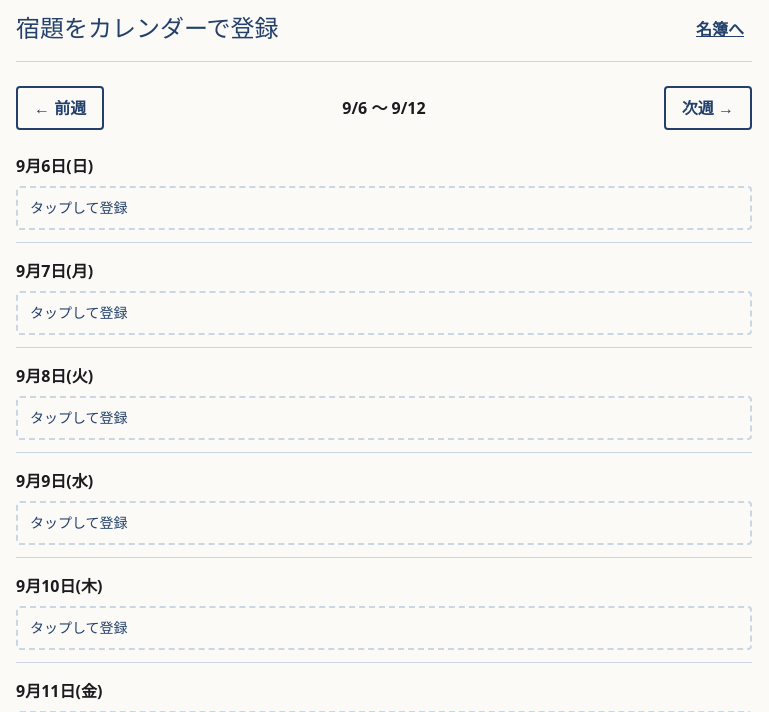
Scenario: カレンダー画面 › 次週・前週で表示が切り替わる
Expected: the text "来週の宿題" is not shown
Click the button "次週 →". click: (708, 108)
box: 664,86 -> 752,130
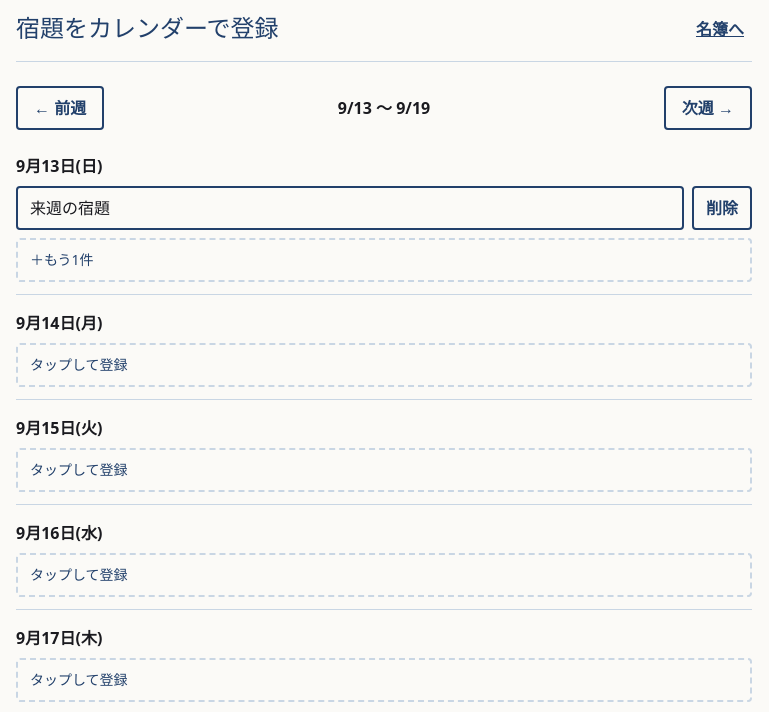
Expected: the button "来週の宿題" is shown, 16,186 -> 684,230
